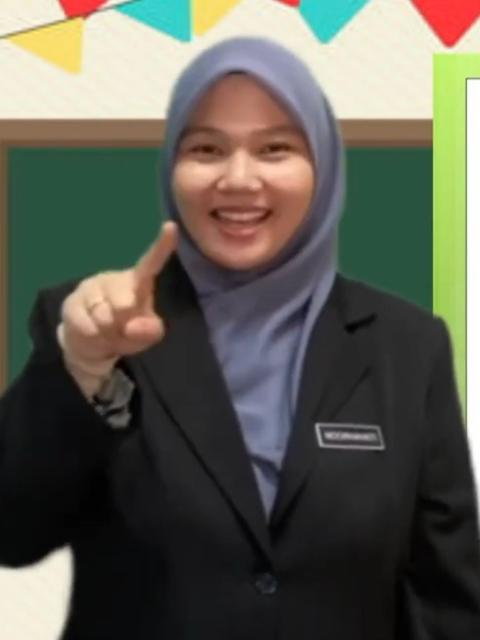Z: (54, 215, 182, 358)
